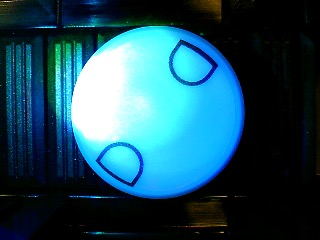MIPO2: (70, 25, 245, 199)
